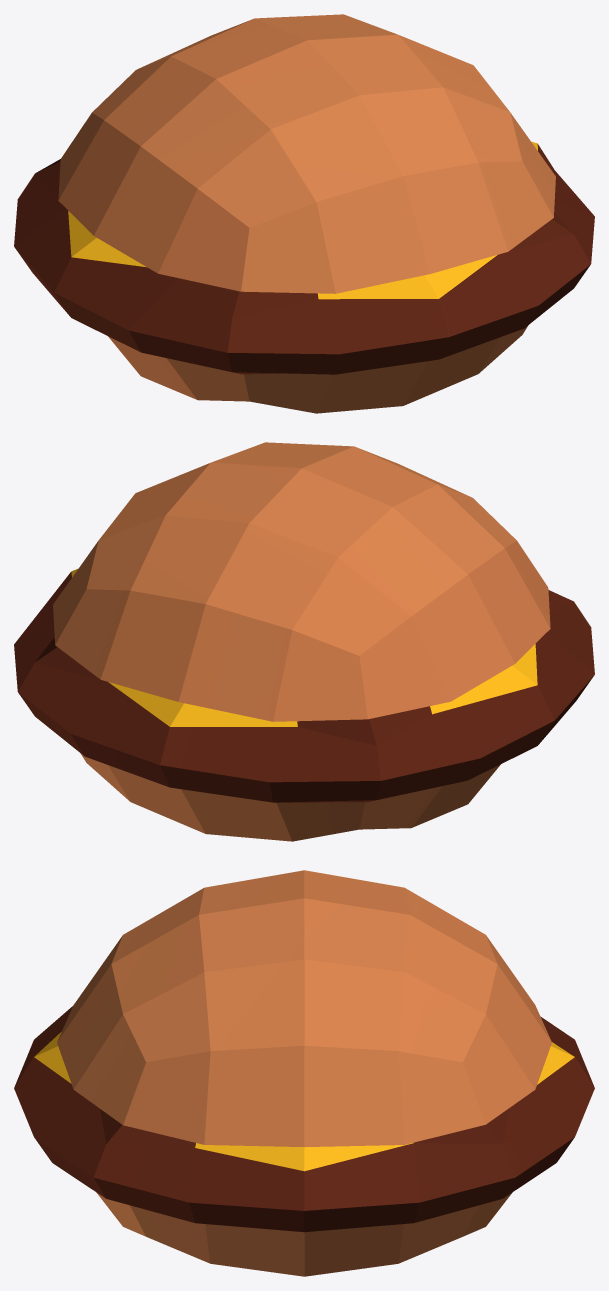
Rendered from burger.fbx.
3 views of the same model, one above another, from view 1: azimuth 30°, elevation 25°; view 2: azimuth 150°, elevation 25°; view 3: azimuth 270°, elevation 25° (orthographic).
Visible parts, largest first — view 1: burger; view 2: burger; view 3: burger.
Part boxes in pixels (x1,y1,x2,y2): burger: (14, 14, 594, 413); burger: (14, 442, 594, 841); burger: (14, 870, 594, 1276).
Bounding box in the file's own units: 0.3486 × 0.1965 × 0.3486.
1 material, 1 textured.
